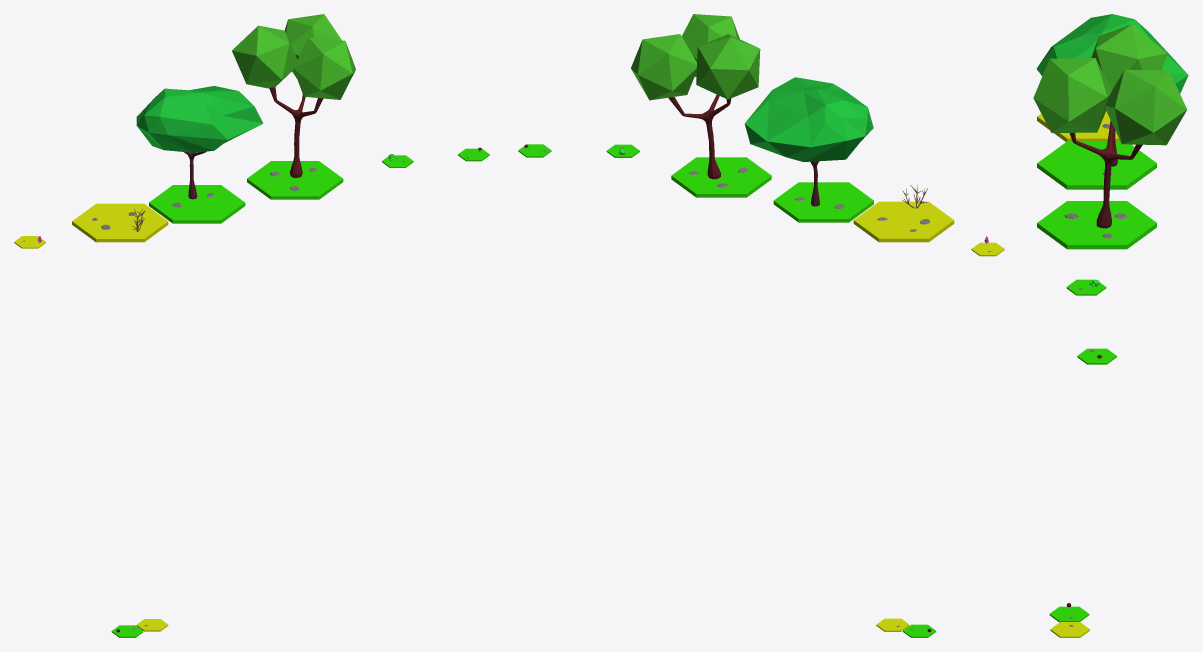
Rendered from yellow2.0.glb.
The picture shows the model from 3 angles, left to right: view 1: azimuth 30°, elevation 25°; view 2: azimuth 150°, elevation 25°; view 3: azimuth 270°, elevation 25°; orthographic projection. The views are drawn at different scales.
Visible parts, largest first — view 1: Icosphere.008, Icosphere.003, Icosphere.001, Cylinder.007, Cylinder.008, Cylinder.009, Icosphere.002, Cube.001; view 2: Icosphere.008, Icosphere.001, Icosphere.002, Cylinder.007, Cylinder.008, Cylinder.009, Icosphere.003, Cube.001; view 3: Icosphere.002, Icosphere.003, Cylinder.009, Cylinder.008, Icosphere.001, Icosphere.008, Cube.001, Cylinder.007, Cylinder.026, Cylinder.013, Cylinder.030, Cylinder.002.
Part boxes in pixels (x1,y1,x2,y2): Icosphere.008: [136, 86, 263, 152]; Icosphere.003: [293, 37, 355, 99]; Icosphere.001: [232, 25, 297, 88]; Cylinder.007: [72, 203, 168, 242]; Cylinder.008: [149, 185, 245, 223]; Cylinder.009: [247, 161, 343, 199]; Icosphere.002: [284, 14, 341, 78]; Cube.001: [269, 87, 323, 177]; Icosphere.008: [744, 77, 873, 161]; Icosphere.001: [696, 34, 760, 99]; Icosphere.002: [631, 34, 696, 100]; Cylinder.007: [853, 201, 954, 242]; Cylinder.008: [773, 182, 873, 222]; Cylinder.009: [671, 157, 771, 197]; Icosphere.003: [682, 14, 739, 76]; Cube.001: [668, 95, 731, 179]; Icosphere.002: [1105, 69, 1187, 145]; Icosphere.003: [1033, 58, 1111, 132]; Cylinder.009: [1037, 201, 1156, 249]; Cylinder.008: [1037, 141, 1156, 189]; Icosphere.001: [1091, 24, 1167, 90]; Icosphere.008: [1036, 14, 1188, 93]; Cube.001: [1069, 120, 1142, 228]; Cylinder.007: [1037, 111, 1119, 141]; Cylinder.026: [1066, 279, 1106, 295]; Cylinder.013: [1077, 348, 1116, 364]; Cylinder.030: [1049, 603, 1089, 622]; Cylinder.002: [1050, 622, 1089, 637].
Size of the model in its own units: 18.38 by 20.88 by 4.28.
